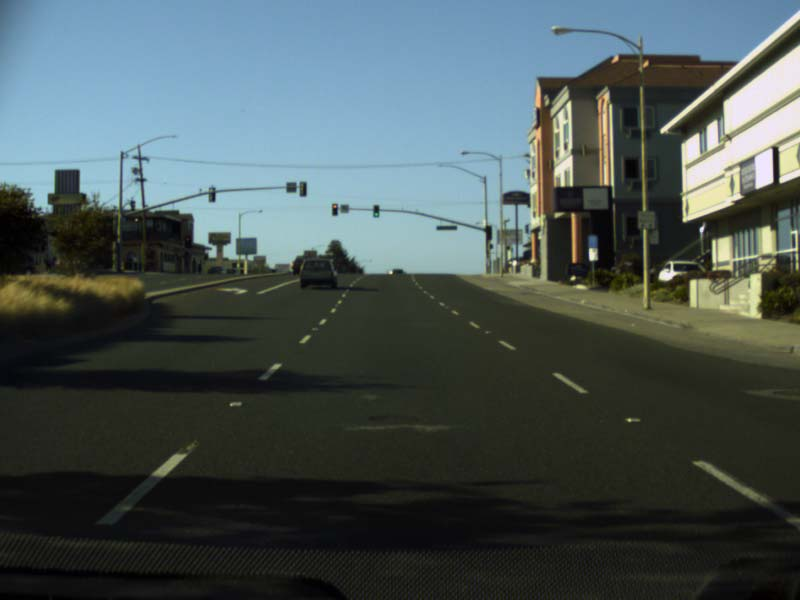Green: (373, 206, 378, 216)
Red: (184, 236, 190, 247), (332, 203, 337, 215)
